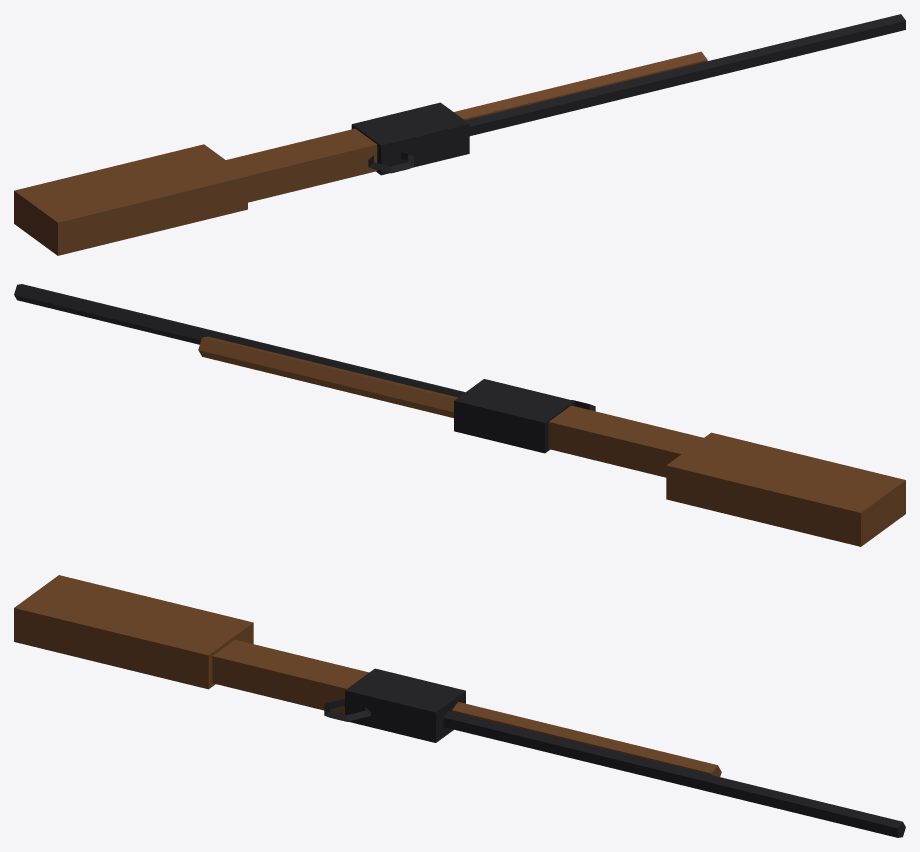
Rendered from SM_Rifle.obj.
3 renders of one model, top to bottom at view 1: azimuth 30°, elevation 25°; view 2: azimuth 150°, elevation 25°; view 3: azimuth 330°, elevation 25°, orthographic. The views are drawn at different scales.
Visible parts, largest first — view 1: SM_Rifle; view 2: SM_Rifle; view 3: SM_Rifle.
Part boxes in pixels (x1,y1,x2,y2): SM_Rifle: (14,14,905,255); SM_Rifle: (14,284,905,546); SM_Rifle: (14,575,905,837).
Bounding box in the file's own units: 1.35 × 0.05 × 0.1612.
